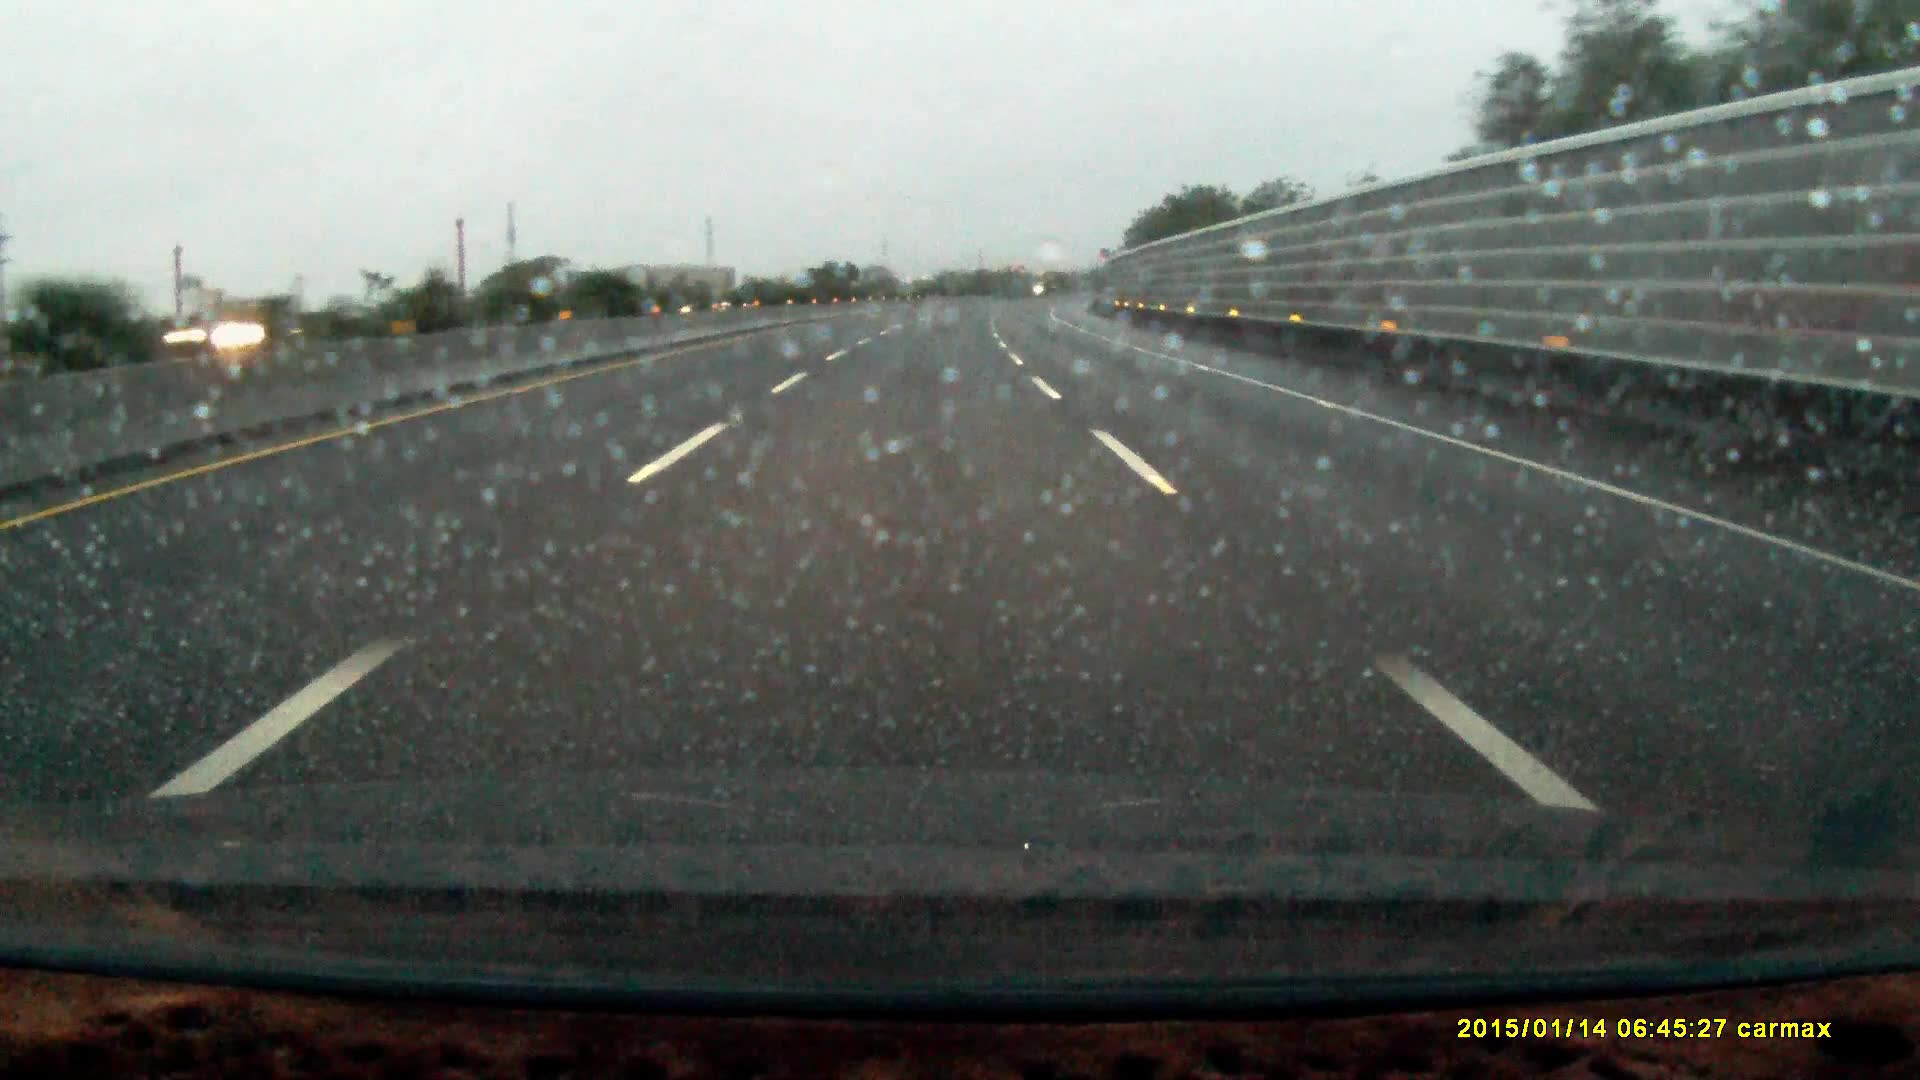vehicle: (156, 299, 339, 355)
